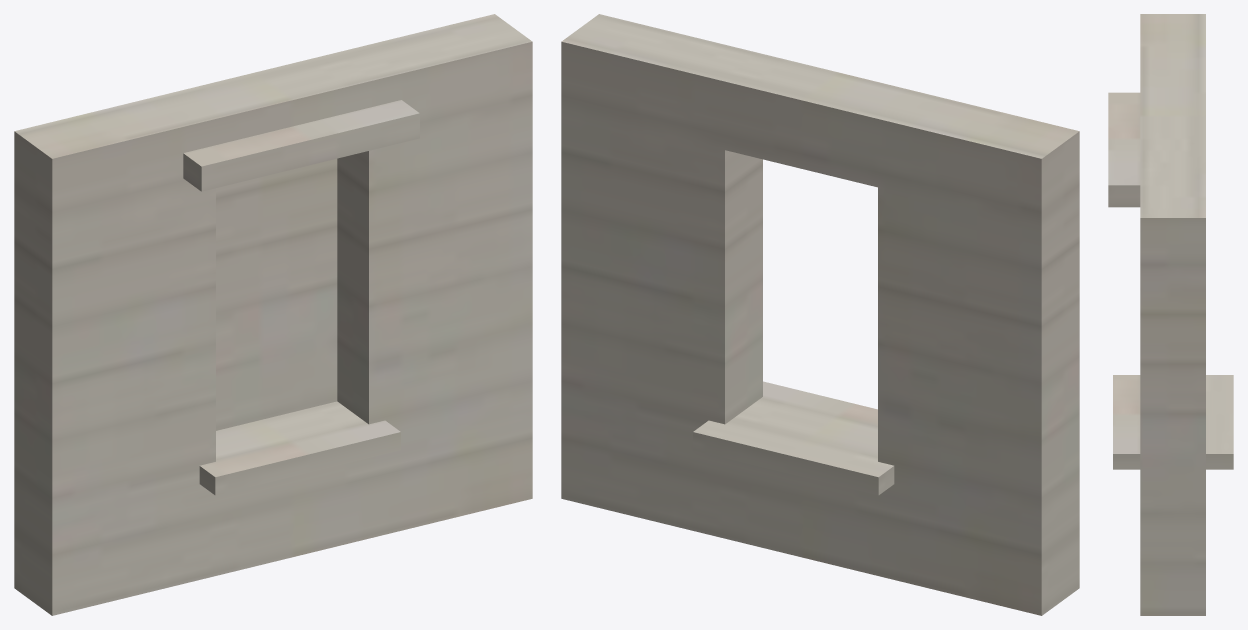
File: debris_dc_wall_window.glb
The picture shows the model from 3 angles, left to right: view 1: azimuth 30°, elevation 25°; view 2: azimuth 150°, elevation 25°; view 3: azimuth 270°, elevation 25°; orthographic projection. The views are drawn at different scales.
Parts seen in each view (by area): view 1: debris_dc_wall_window; view 2: debris_dc_wall_window; view 3: debris_dc_wall_window.
Part boxes in pixels (<box>): debris_dc_wall_window: <box>14,14,532,615</box>; debris_dc_wall_window: <box>561,14,1079,615</box>; debris_dc_wall_window: <box>1108,14,1233,615</box>.
Bounding box in the file's own units: 4.4 × 4 × 1.14.
1 material, 1 textured.
